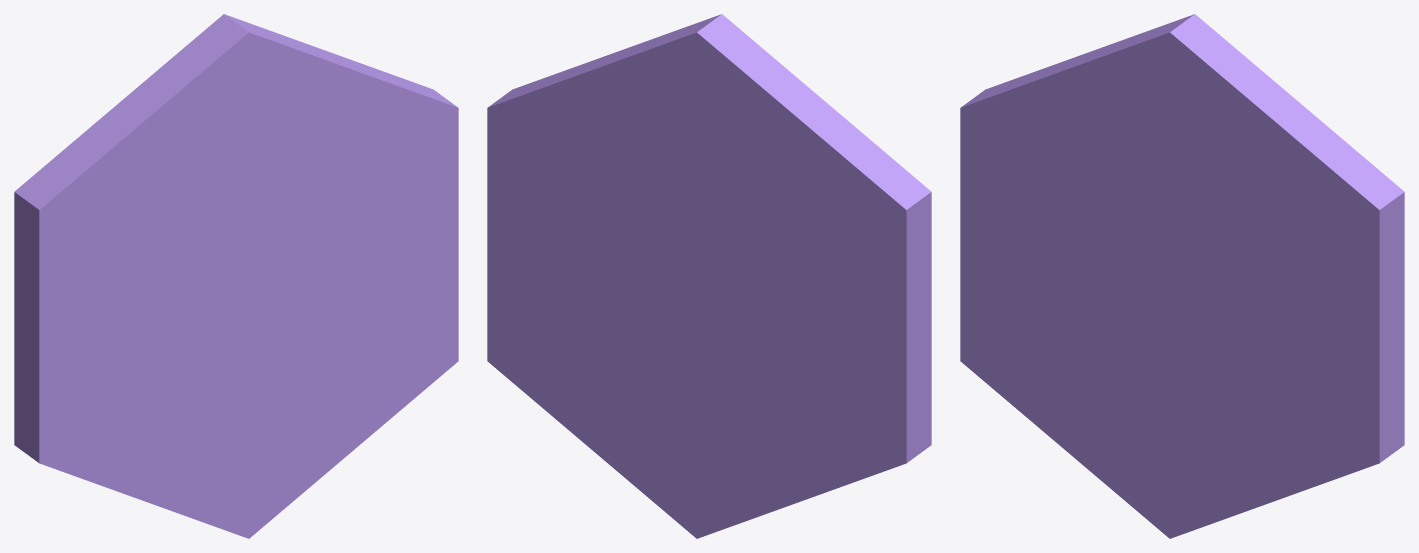
File: badge_violet.glb
3 views of the same model, side by side, from view 1: azimuth 30°, elevation 25°; view 2: azimuth 150°, elevation 25°; view 3: azimuth 330°, elevation 25° (orthographic).
Parts seen in each view (by area): view 1: badge; view 2: badge; view 3: badge.
Part boxes in pixels (box(x1,y1,x2,y2)): badge: box(14, 14, 458, 538); badge: box(487, 14, 931, 538); badge: box(960, 14, 1404, 538).
Size of the model in its own units: 1.73 by 2 by 0.18.
